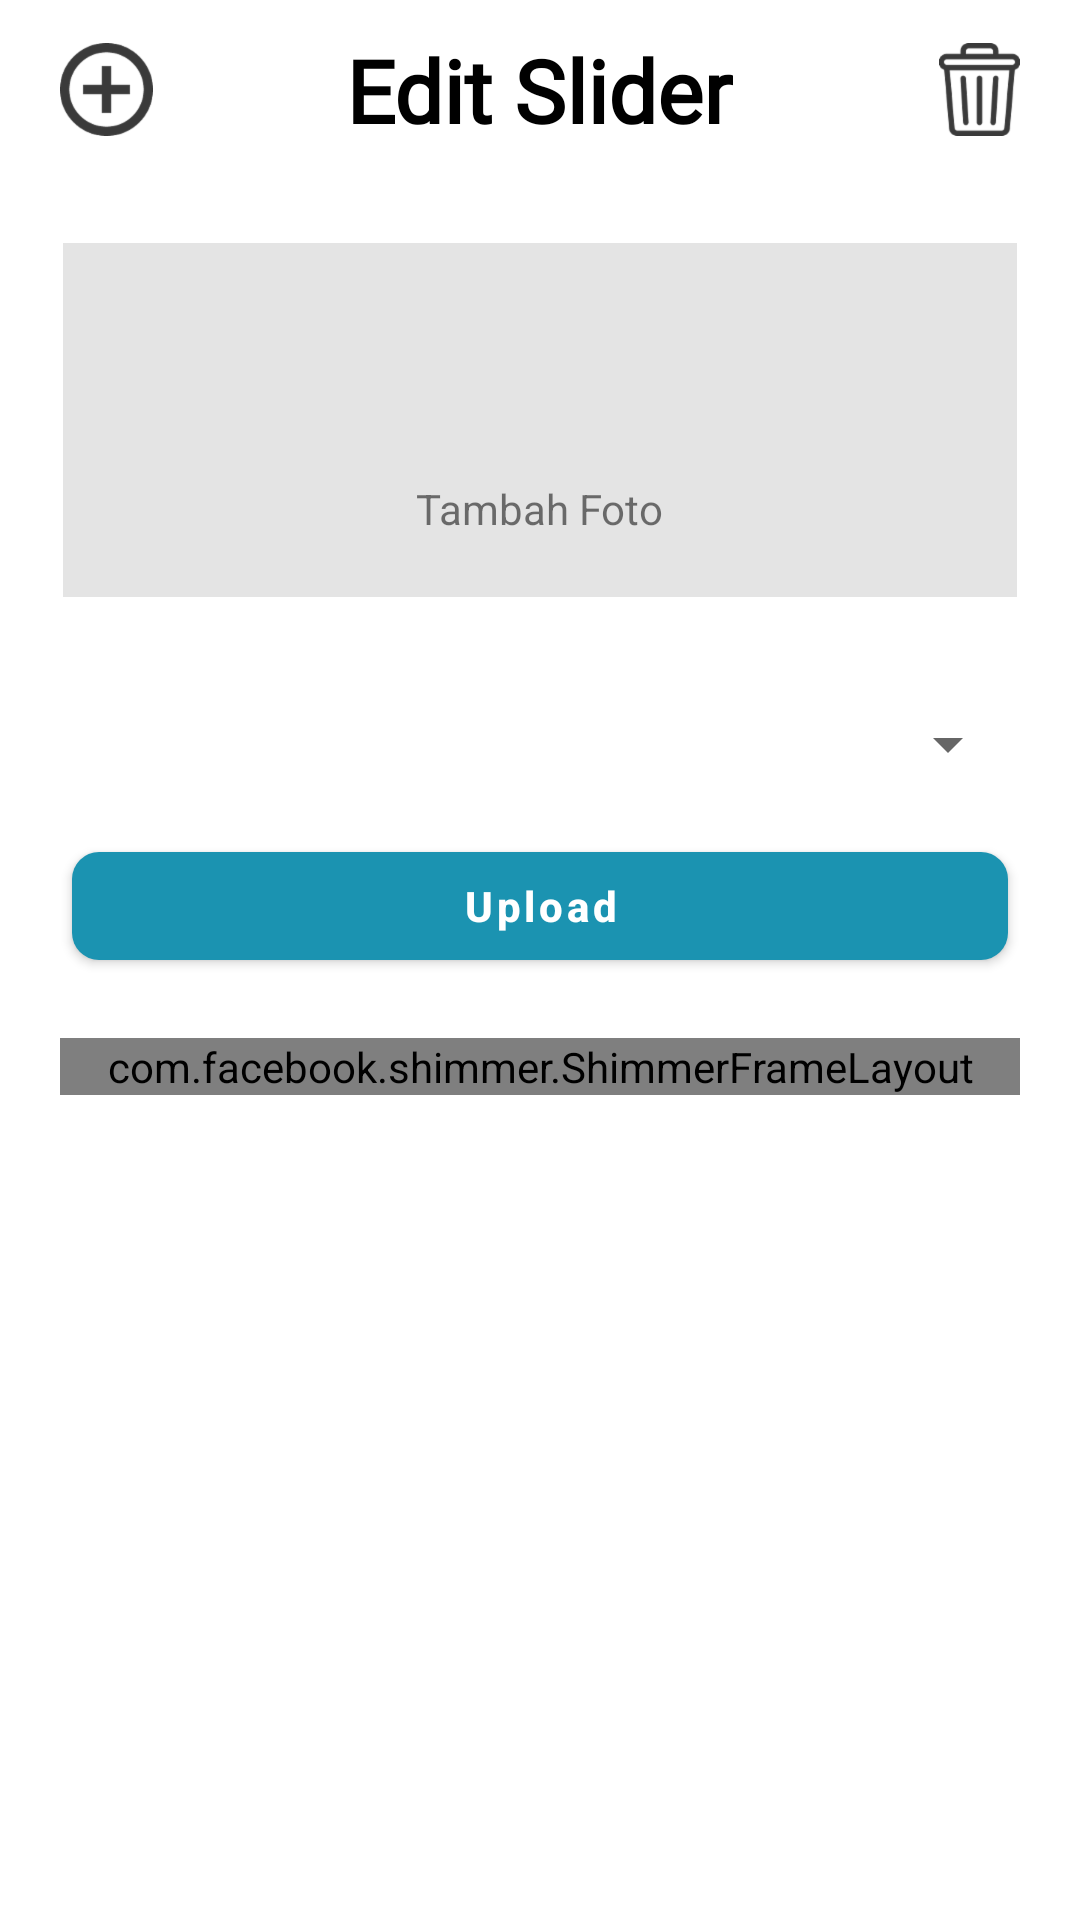

Icons on this 1080*1920 Android screen, each with the point to tap as point (x, y):
btntambah: point (106, 89)
hapus: point (979, 89)
